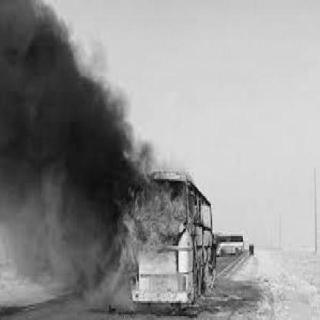Fire: (122, 165, 192, 243)
